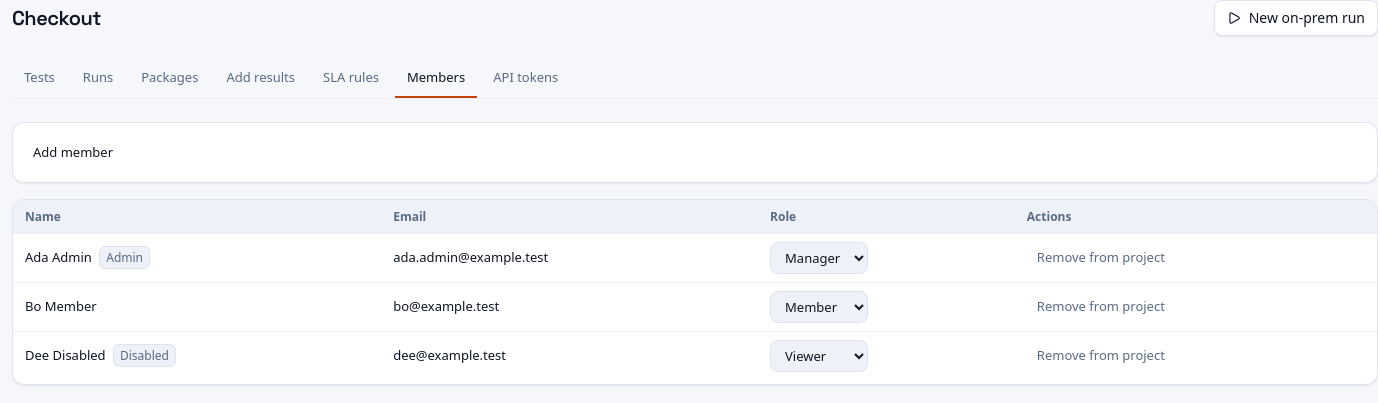
Test: ProjectMembers — an admin › removes a member from the project with one click, as one DELETE for that row
Click the button named "Remove from project Bo Member": click(1101, 307) [1027,291,1175,323]
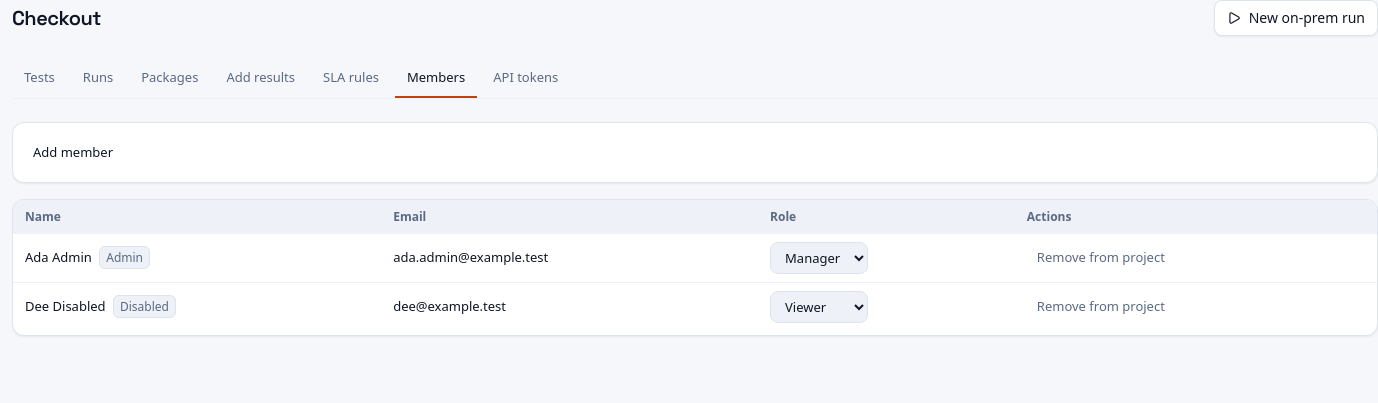
Check: the text "bo@example.test" is gone
